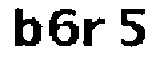5: (113, 7, 149, 54)
6: (46, 6, 80, 50)
b: (10, 6, 43, 50)
r: (81, 15, 104, 51)
